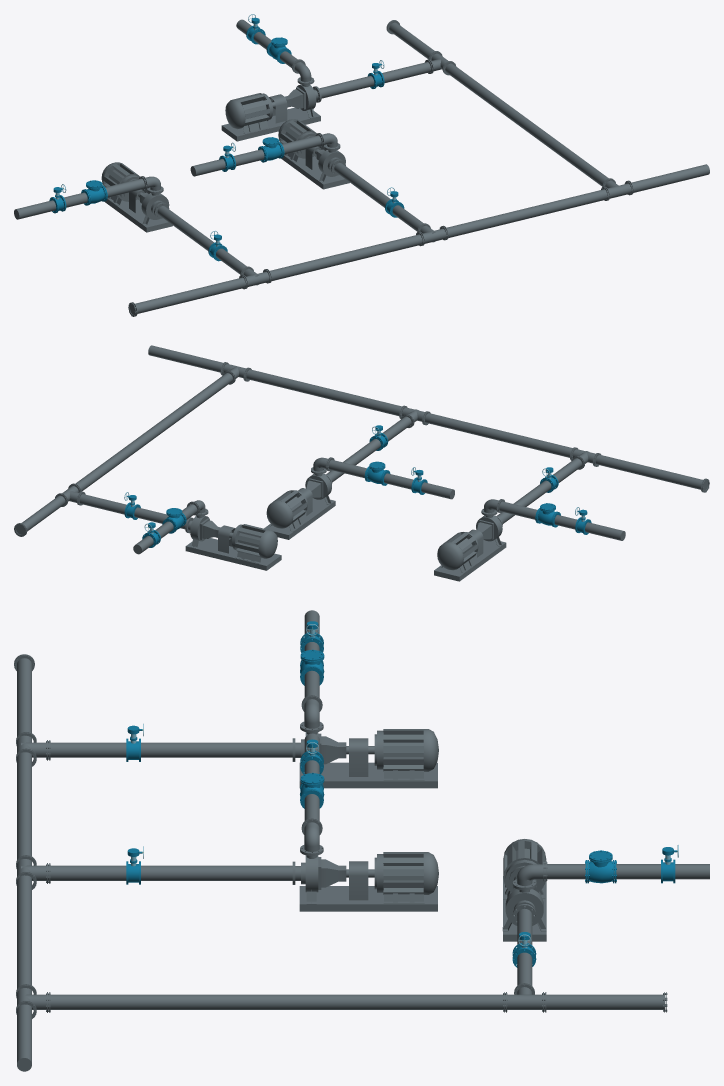
File: recycled_water_process.obj
The picture shows the model from 3 angles, top to bottom: view 1: azimuth 30°, elevation 25°; view 2: azimuth 150°, elevation 25°; view 3: azimuth 270°, elevation 25°; orthographic projection. The views are drawn at different scales.
Bounding box in the file's own units: 4974 × 535 × 3557.
